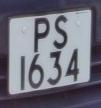1: (16, 52, 29, 95)
3: (46, 51, 65, 89)
4: (64, 44, 83, 87)
6: (27, 52, 46, 93)
P: (29, 14, 53, 56)
S: (52, 13, 71, 51)
